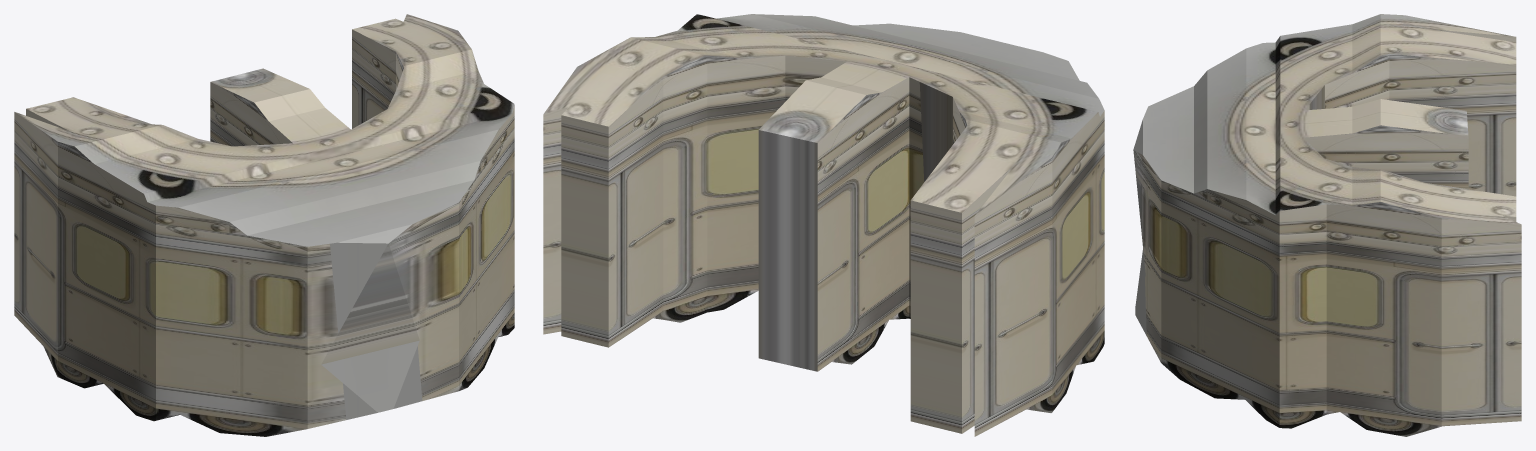
Rendered from spoke_elevator_car.glb.
3 views of the same model, side by side, from view 1: azimuth 30°, elevation 25°; view 2: azimuth 150°, elevation 25°; view 3: azimuth 270°, elevation 25° (orthographic). The views are drawn at different scales.
Visible parts, largest first — view 1: spoke_elevator_car; view 2: spoke_elevator_car; view 3: spoke_elevator_car.
Boxes of the visible parts, <box> form: spoke_elevator_car: <box>14,14,514,436</box>; spoke_elevator_car: <box>543,14,1104,436</box>; spoke_elevator_car: <box>1133,14,1521,436</box>.
Bounding box in the file's own units: 5.49 × 2.99 × 4.54.
Materials: 2 (1 with a texture image).
